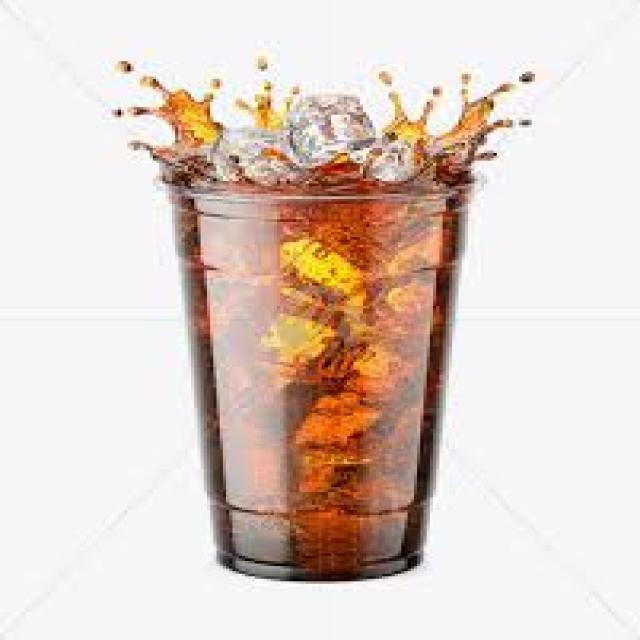cup: (115, 95, 522, 595)
